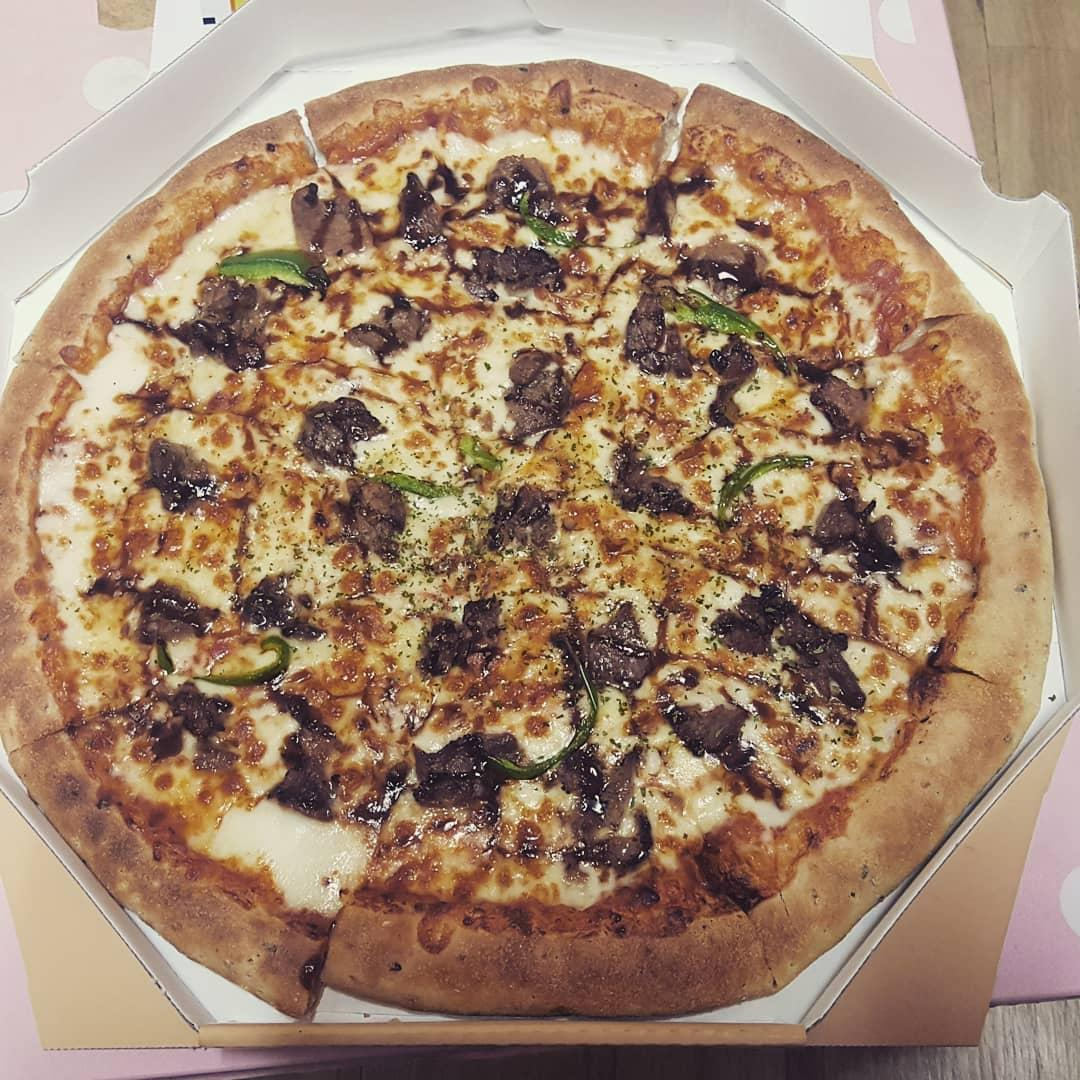Chicken: (723, 603, 859, 706), (645, 700, 781, 796), (413, 728, 541, 820), (558, 741, 655, 848), (240, 546, 335, 640), (183, 280, 271, 375), (616, 280, 701, 377), (266, 713, 343, 820), (146, 431, 227, 515), (325, 303, 441, 361), (328, 473, 401, 564), (426, 590, 507, 670), (603, 453, 692, 525), (305, 173, 387, 247), (556, 616, 641, 684), (815, 498, 903, 562), (806, 370, 879, 445), (496, 368, 575, 437), (300, 398, 377, 459), (478, 148, 559, 205), (483, 498, 559, 558), (396, 165, 465, 231), (475, 243, 567, 291), (117, 581, 197, 633)
Peppers: (710, 448, 825, 511), (185, 640, 299, 700), (208, 240, 327, 297), (660, 290, 745, 349), (366, 443, 493, 481), (196, 640, 291, 688), (520, 213, 581, 265)
Pizza: (3, 61, 1013, 998)
